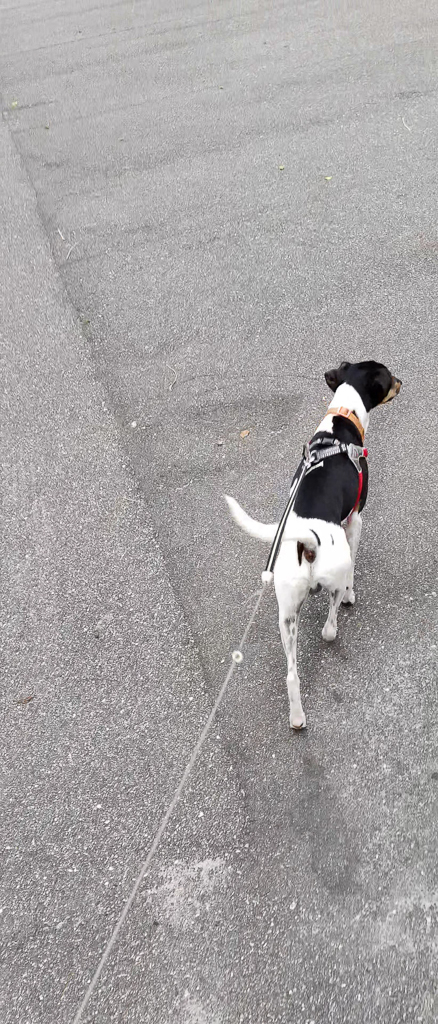Dog: (220, 351, 414, 745)
